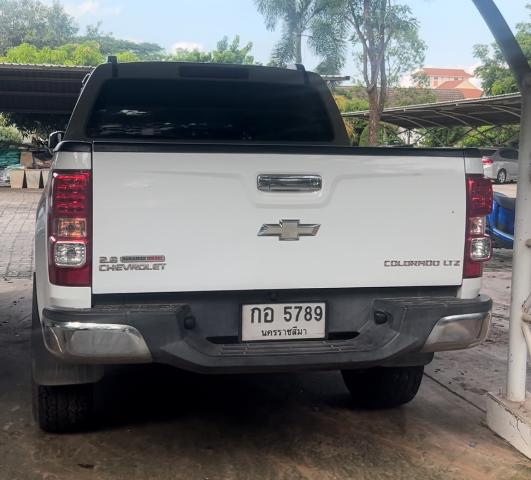pickup-truck: (29, 48, 494, 430)
